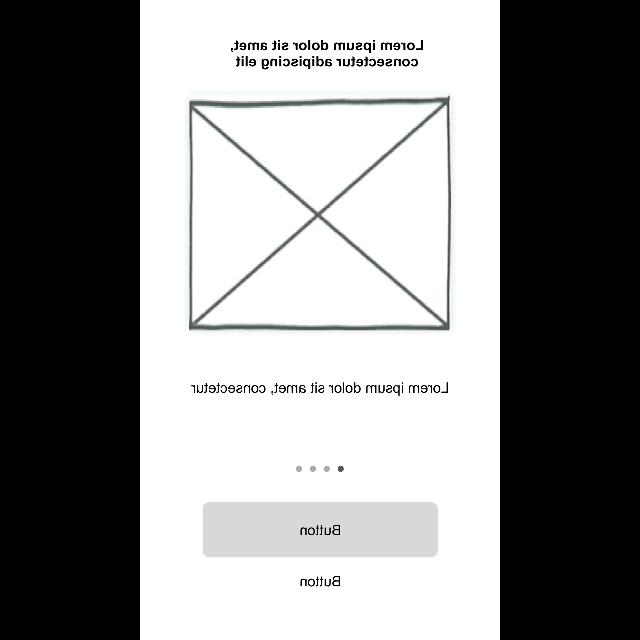image: (188, 95, 450, 331)
pageindicator: (296, 466, 344, 472)
text: (231, 40, 424, 70), (190, 382, 448, 396), (300, 576, 340, 586)
textbutton: (202, 502, 438, 558)
